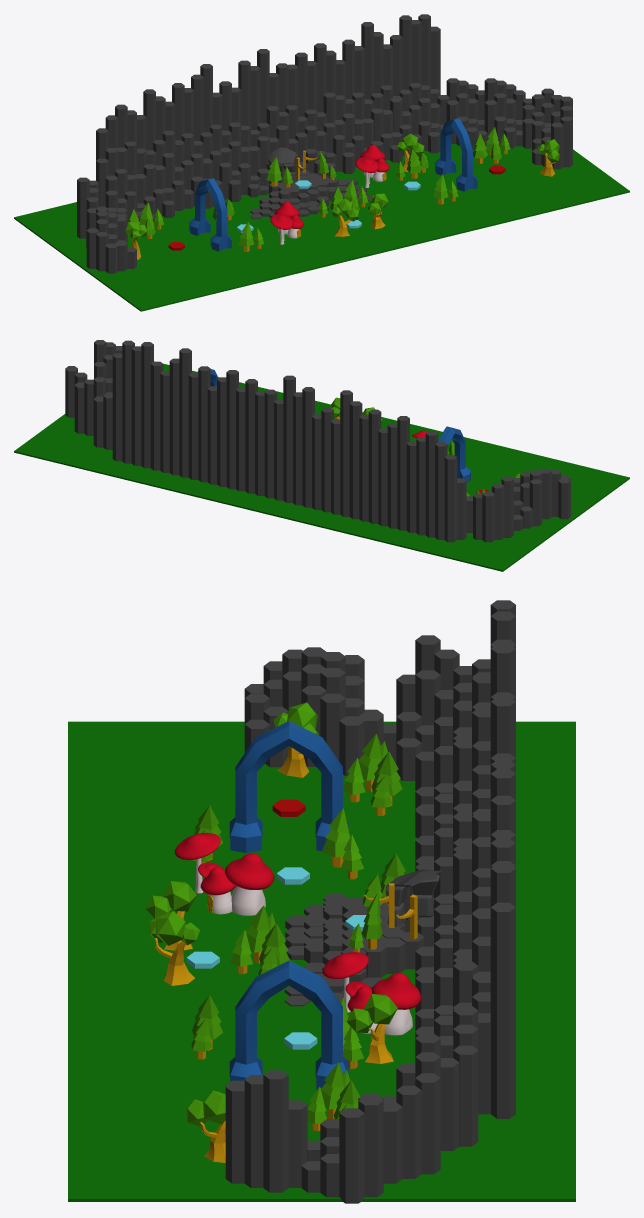
The model's file is World1Alpha.fbx.
3 views of the same model, one above another, from view 1: azimuth 30°, elevation 25°; view 2: azimuth 150°, elevation 25°; view 3: azimuth 270°, elevation 25° (orthographic). The views are drawn at different scales.
Visible parts, largest first — view 1: pCube140, pCylinder92, pCylinder296, pCylinder550, pCylinder536, pCylinder539, pCylinder542, pCylinder562, pCylinder569, pCylinder543, pCylinder552, pCylinder538 (+21 smaller); view 2: pCube140, pCylinder550, pCylinder552, pCylinder539, pCylinder536, pCylinder549, pCylinder553, pCylinder569, pCylinder542, pCylinder557, pCylinder562, pCylinder543 (+40 smaller); view 3: pCube140, pCylinder92, pCylinder296, pCylinder560, pCylinder401, pCylinder390, pCylinder399, pCylinder385, pCylinder365, pCylinder377, pCylinder397, pCylinder371 (+20 smaller).
Boxes of the visible parts, x1,y1,x2,y2 form: pCube140: (14,144,629,311); pCylinder92: (189,178,231,251); pCylinder296: (435,118,477,191); pCylinder550: (361,22,373,99); pCylinder536: (399,15,411,89); pCylinder539: (257,49,269,122); pCylinder542: (238,60,250,127); pCylinder562: (418,14,430,87); pCylinder569: (200,64,212,132); pCylinder543: (314,43,326,112); pCylinder552: (191,74,203,140); pCylinder538: (250,66,260,129); pCube140: (14,361,629,571); pCylinder550: (179,348,191,477); pCylinder552: (349,401,362,519); pCylinder539: (283,375,295,502); pCylinder536: (141,342,153,468); pCylinder549: (131,346,141,465); pCylinder553: (368,409,381,523); pCylinder569: (340,390,352,516); pCylinder542: (302,387,314,507); pCylinder557: (169,358,179,475); pCylinder562: (122,340,134,463); pCylinder543: (226,370,238,489); pCube140: (68,721,575,1201); pCylinder92: (229,721,348,852); pCylinder296: (229,960,348,1090); pCylinder560: (490,902,515,1118); pCylinder401: (263,1070,288,1192); pCylinder390: (339,1108,364,1203); pCylinder399: (244,1075,263,1187); pCylinder385: (358,1096,383,1197); pCylinder365: (453,1045,478,1146); pCylinder377: (415,1073,440,1174); pCylinder397: (225,1082,244,1183); pCylinder371: (396,1085,421,1178).
Bounding box in the file's own units: 1209 × 299 × 540.
